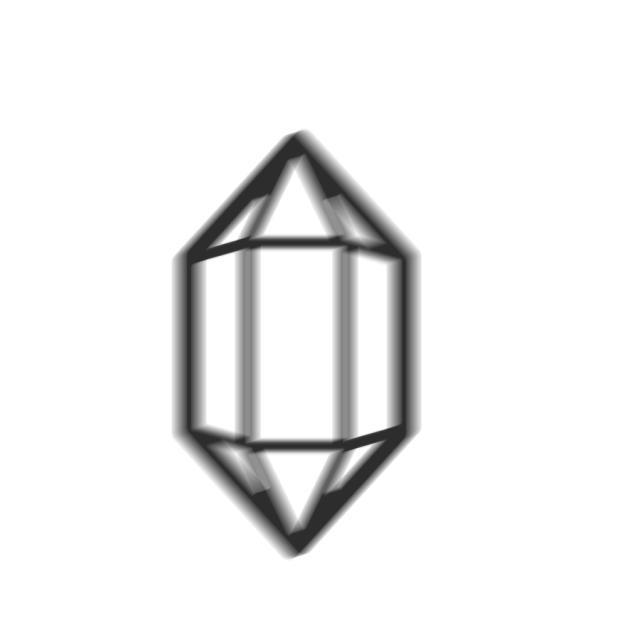crystal: (159, 122, 432, 569)
